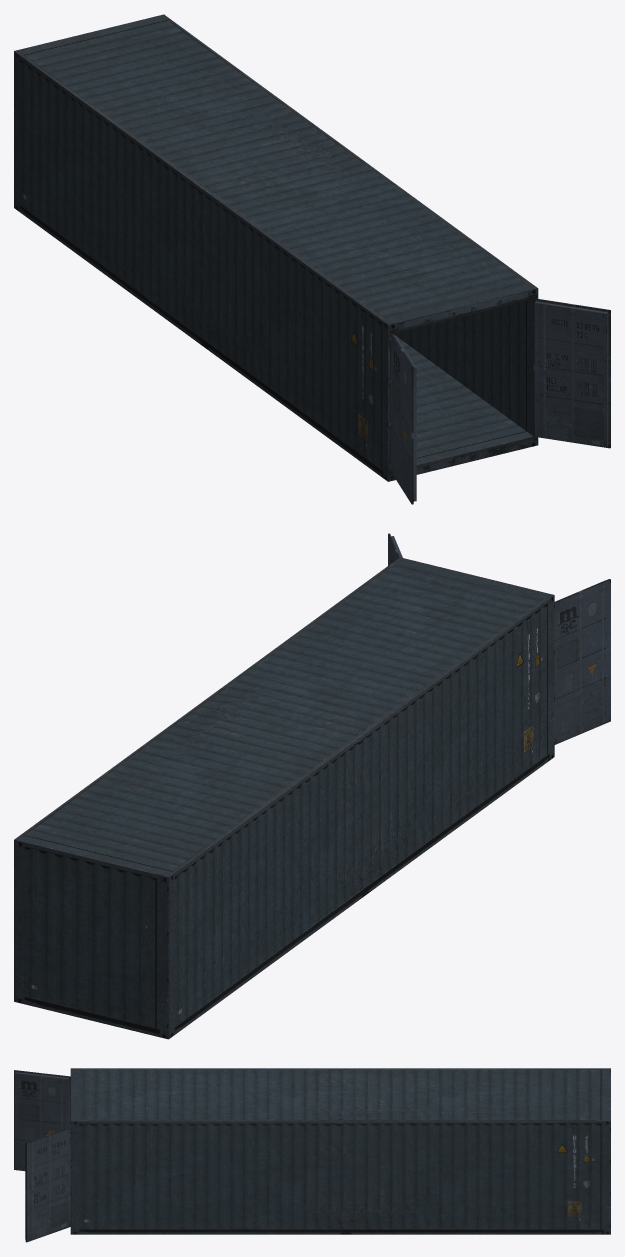
File: shipping_container_mx_1_hollow_1_2.dae
3 views of the same model, one above another, from view 1: azimuth 30°, elevation 25°; view 2: azimuth 150°, elevation 25°; view 3: azimuth 270°, elevation 25° (orthographic). The views are drawn at different scales.
Parts seen in each view (by area): view 1: shipping_container_mx_1_hollow_1_2; view 2: shipping_container_mx_1_hollow_1_2; view 3: shipping_container_mx_1_hollow_1_2.
Part boxes in pixels (x1,y1,x2,y2): shipping_container_mx_1_hollow_1_2: (14,14,610,504); shipping_container_mx_1_hollow_1_2: (14,533,610,1039); shipping_container_mx_1_hollow_1_2: (14,1068,610,1242).
Size of the model in its own units: 3.46 by 11.94 by 2.5.
Materials: 1 (1 with a texture image).
